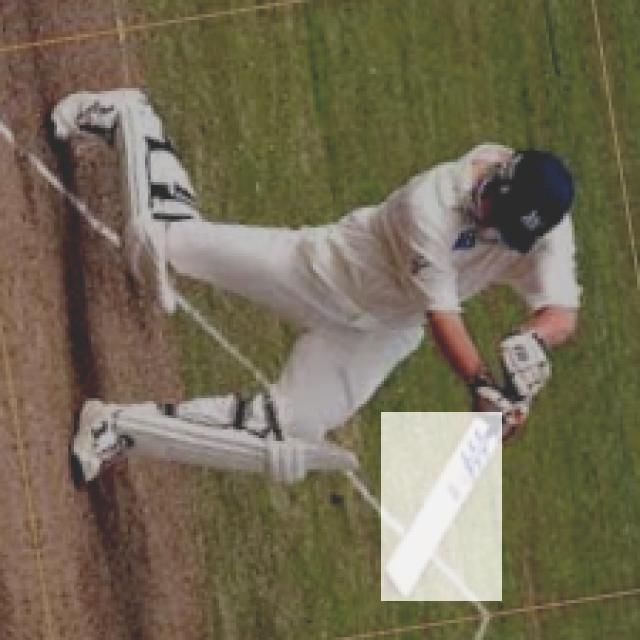bat: (381, 410, 505, 600)
toe: (375, 571, 414, 602)
